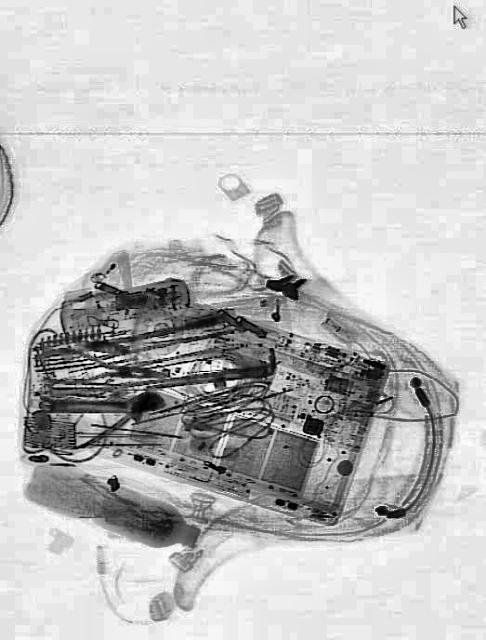Pliers: (39, 346, 165, 392)
